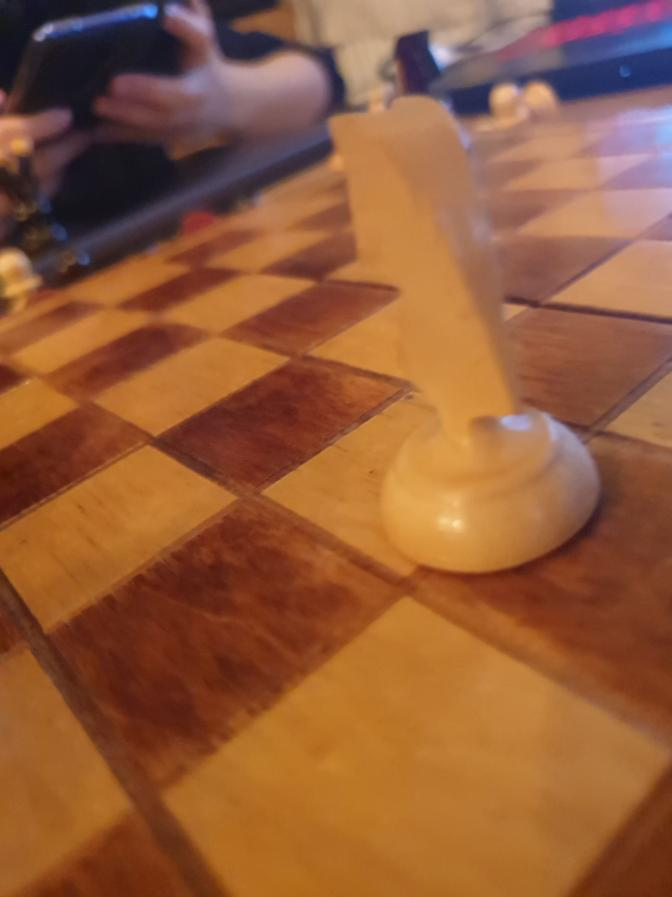wknight: (323, 96, 603, 576)
